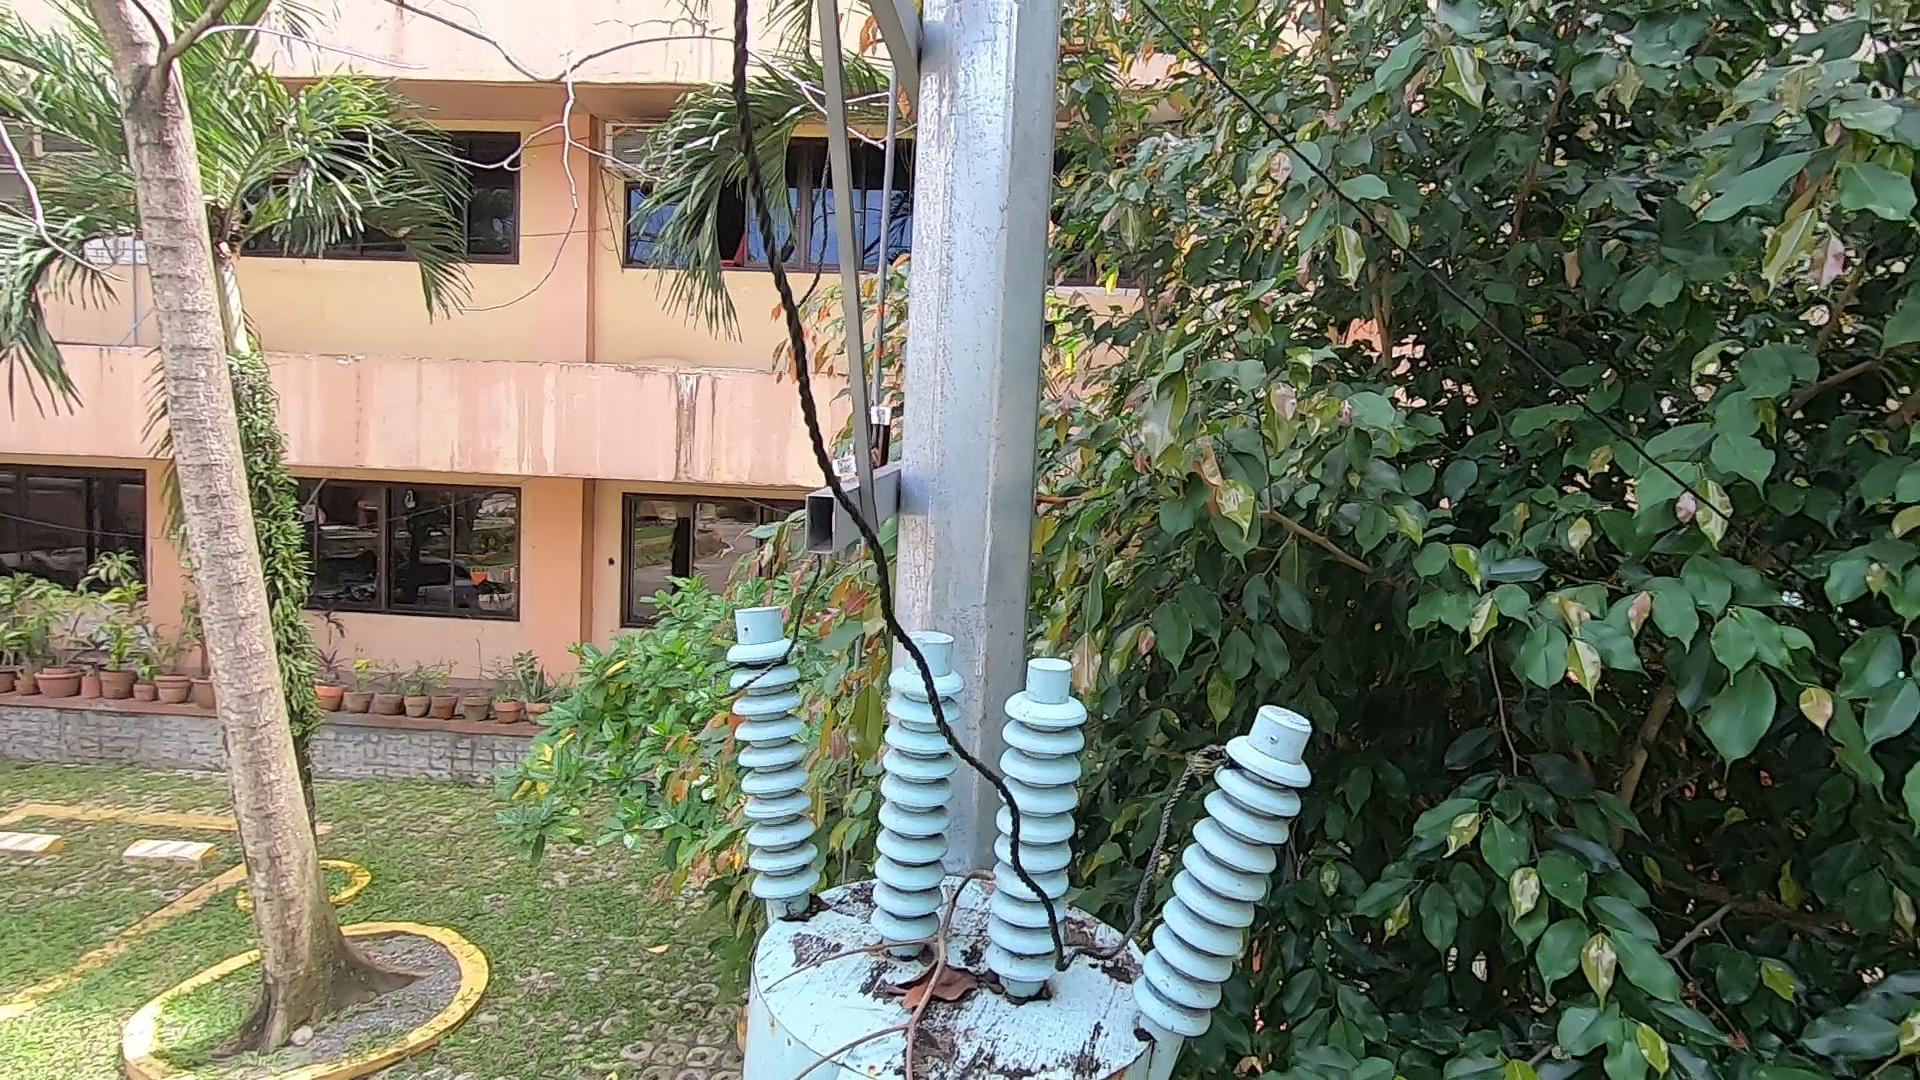leaf: (890, 949, 994, 1018), (1063, 903, 1147, 982), (781, 885, 835, 930)
tree branch: (761, 848, 1015, 1080)
